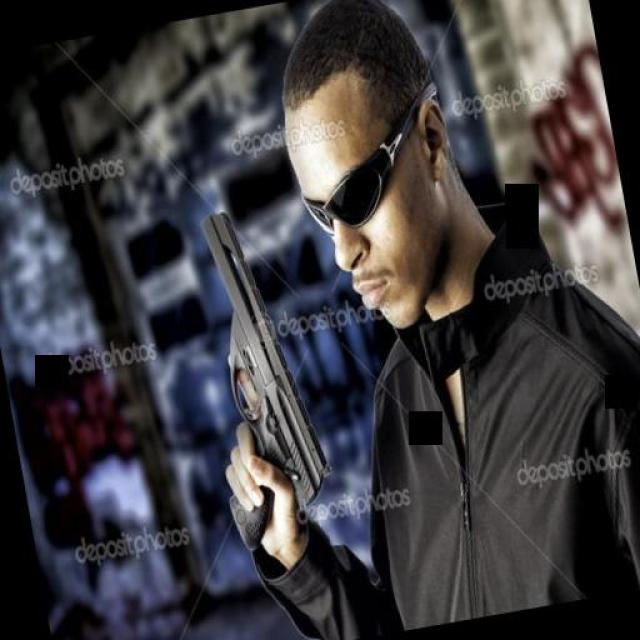gun: (172, 200, 352, 544)
